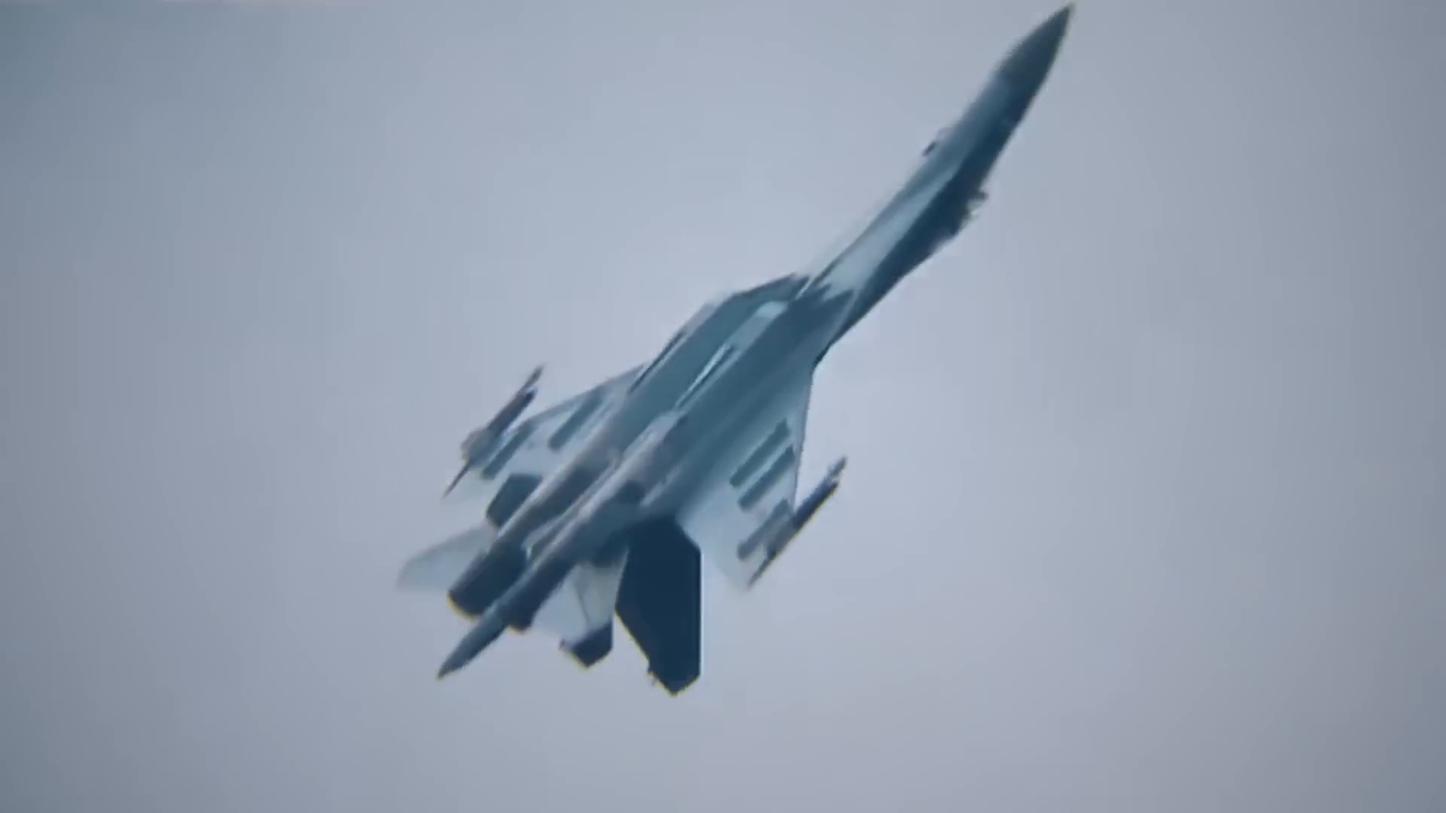Su35: (397, 0, 1073, 695)
